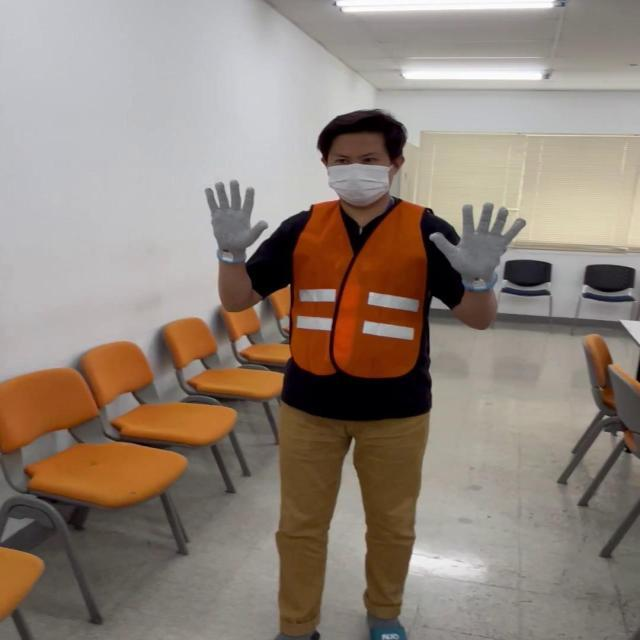gloved_hand: (425, 198, 526, 286), (204, 178, 265, 256)
